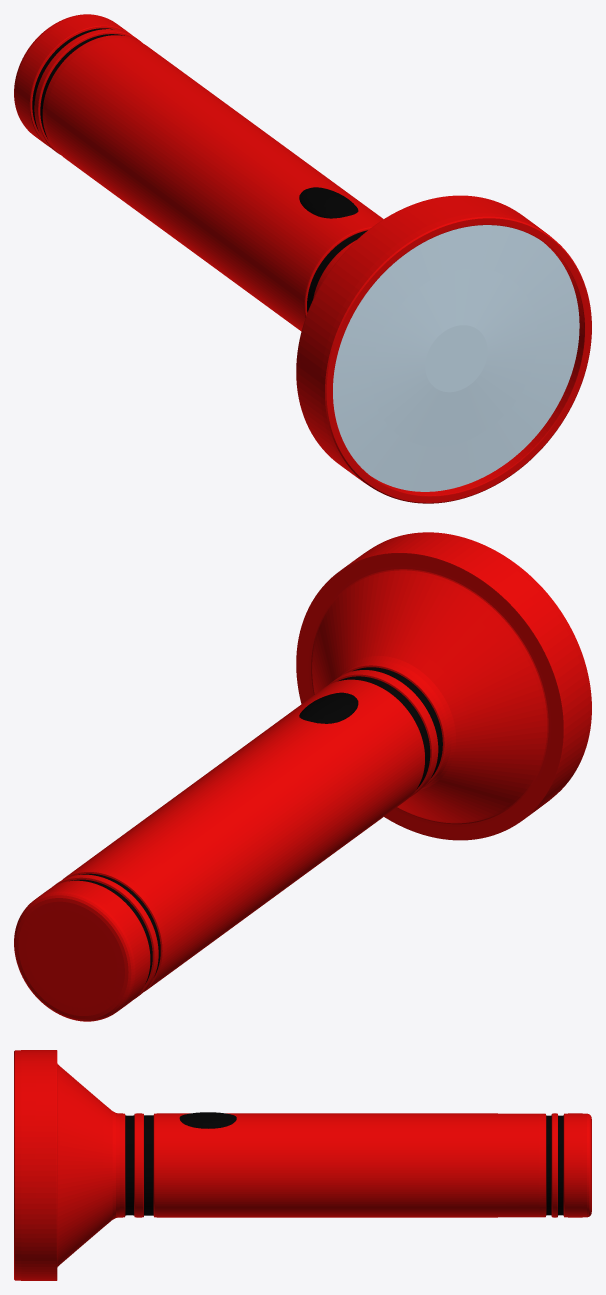
The model's file is FlashLight.fbx.
The picture shows the model from 3 angles, top to bottom: view 1: azimuth 30°, elevation 25°; view 2: azimuth 150°, elevation 25°; view 3: azimuth 270°, elevation 25°; orthographic projection. The views are drawn at different scales.
Parts seen in each view (by area): view 1: Flashlight; view 2: Flashlight; view 3: Flashlight.
Part boxes in pixels (x1=…): Flashlight: x1=14, y1=14, x2=591, y2=503; Flashlight: x1=14, y1=532, x2=591, y2=1021; Flashlight: x1=14, y1=1050, x2=591, y2=1280.
Bounding box in the file's own units: 15.97 × 15.97 × 40.
